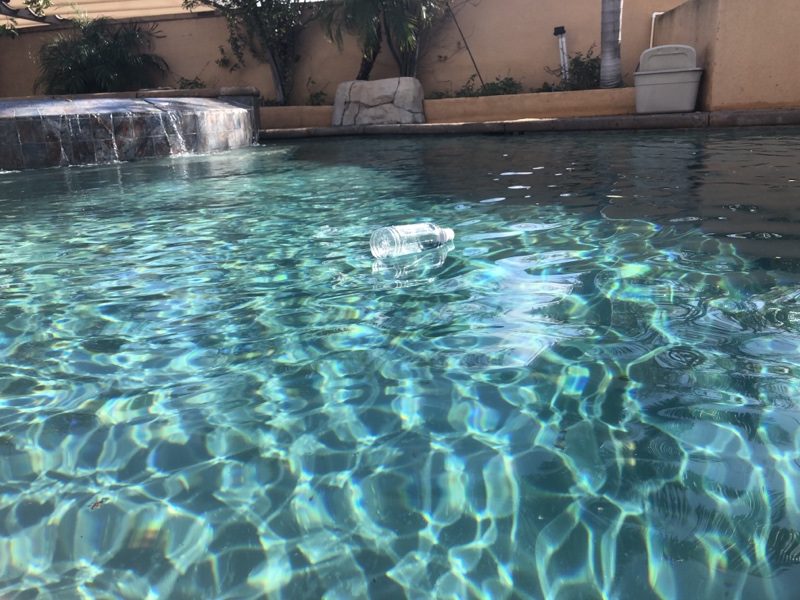Plastic Bottle: (365, 220, 458, 259)
